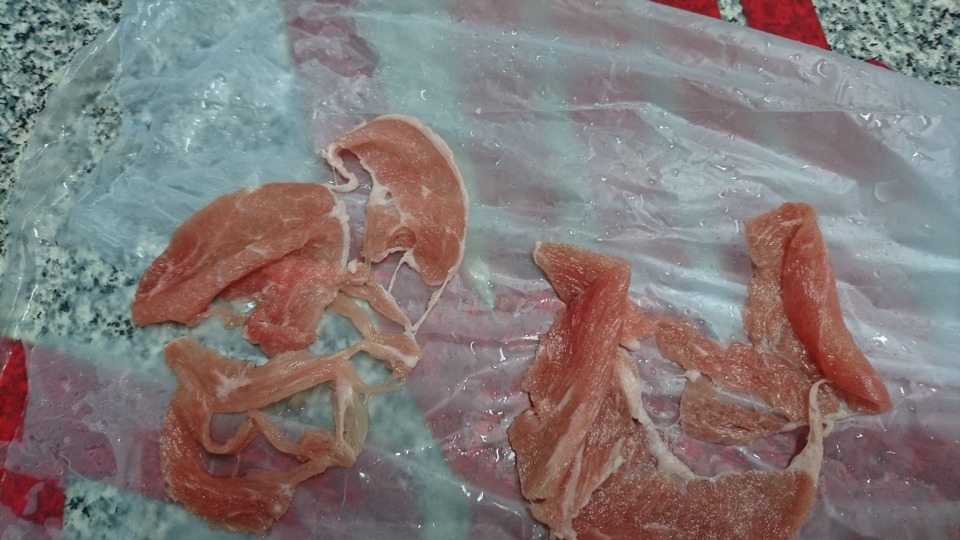restructured meat: (102, 127, 451, 507), (526, 209, 892, 540)
